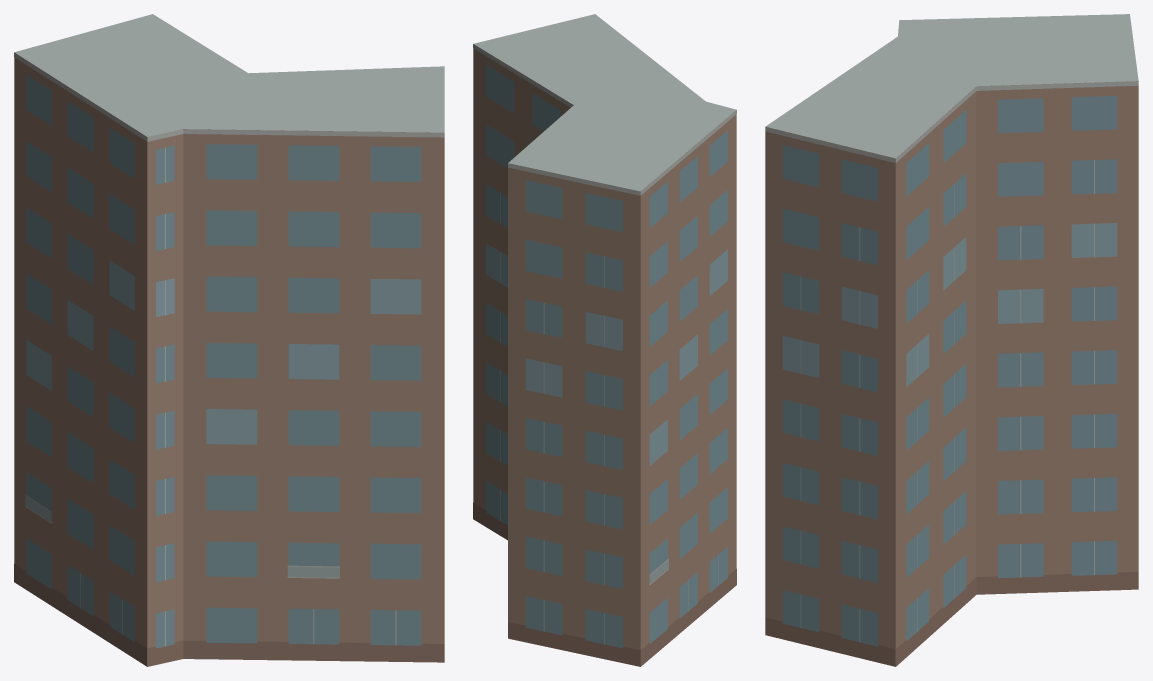
The model's file is survey-upis-32715700.glb.
3 renders of one model, left to right at view 1: azimuth 30°, elevation 25°; view 2: azimuth 150°, elevation 25°; view 3: azimuth 270°, elevation 25°, orthographic. The views are drawn at different scales.
Visible parts, largest first — view 1: survey-upis-32715700.tmp; view 2: survey-upis-32715700.tmp; view 3: survey-upis-32715700.tmp.
Boxes of the visible parts, <box> form: survey-upis-32715700.tmp: <box>14,14,444,666</box>; survey-upis-32715700.tmp: <box>473,14,736,666</box>; survey-upis-32715700.tmp: <box>765,14,1138,666</box>.
Size of the model in its own units: 16.16 by 26.5 by 17.65.
